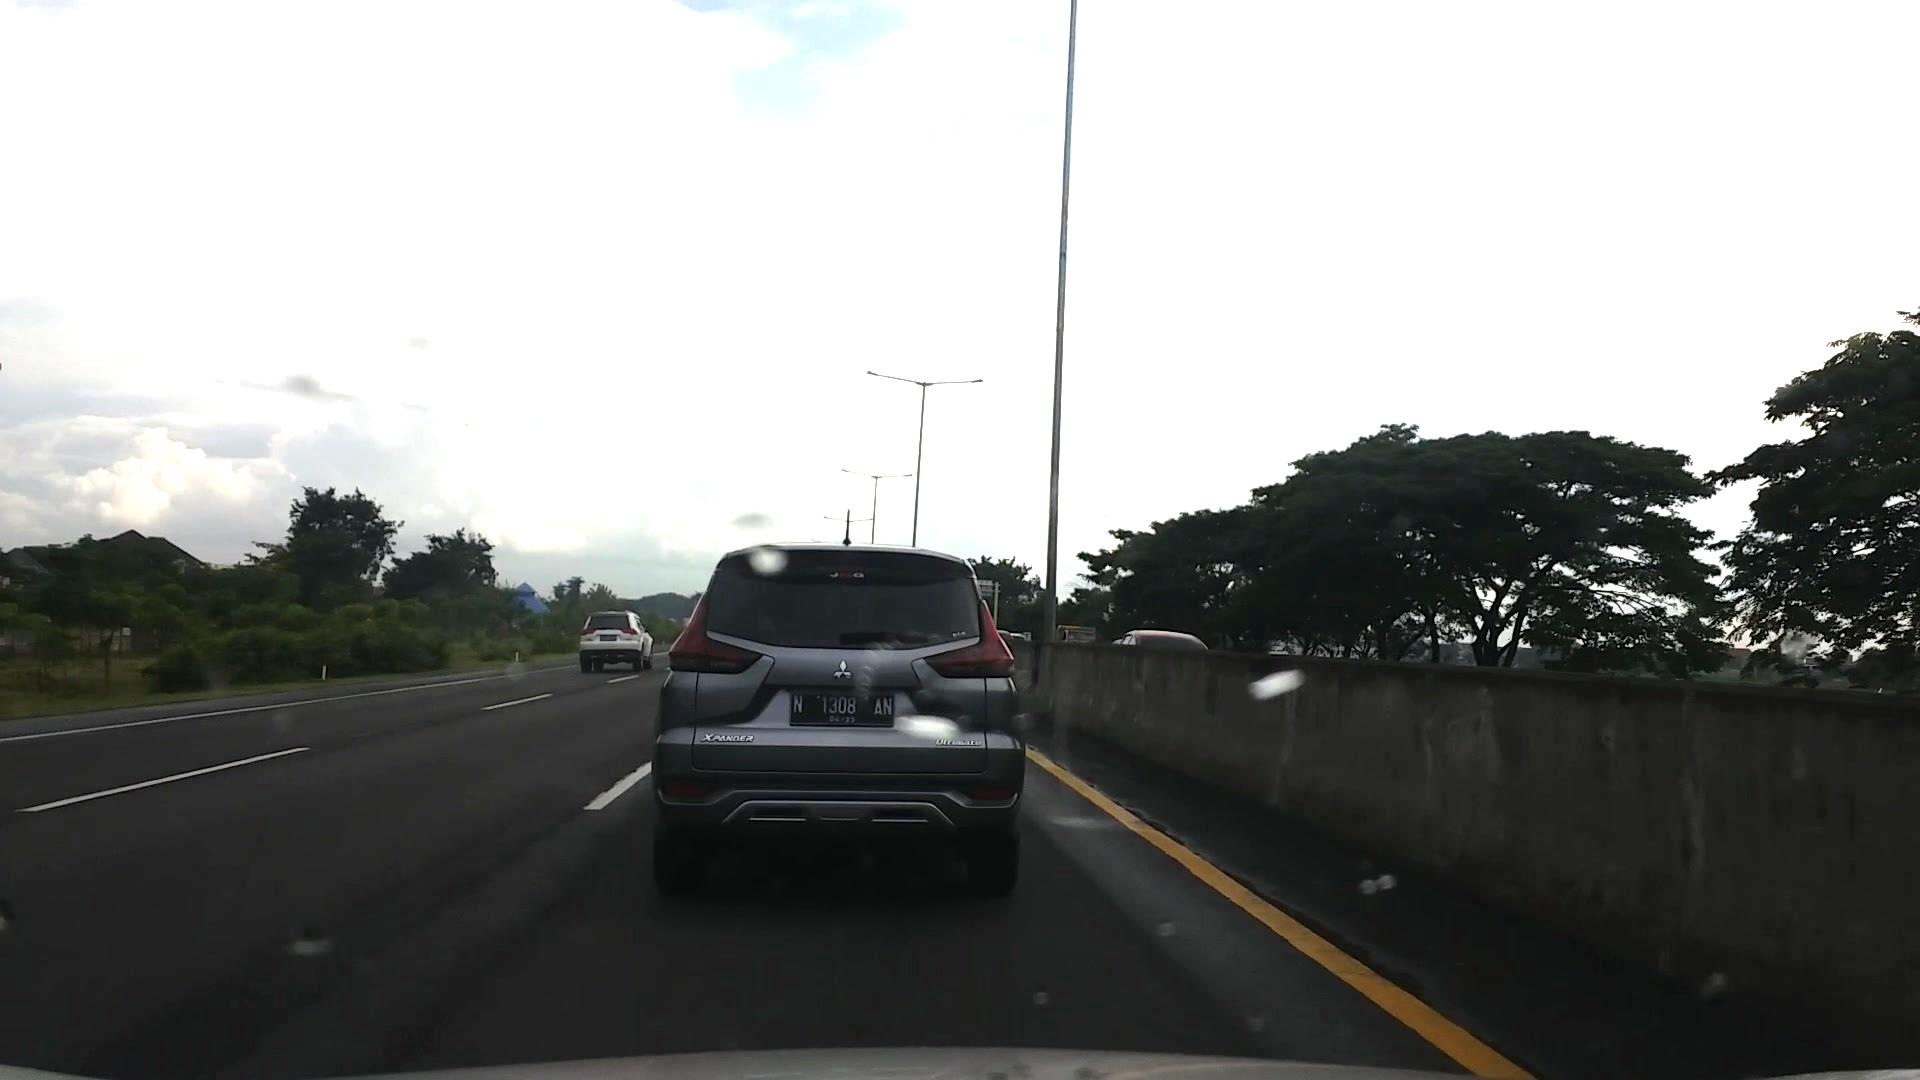plate_positive: (789, 690, 895, 728)
